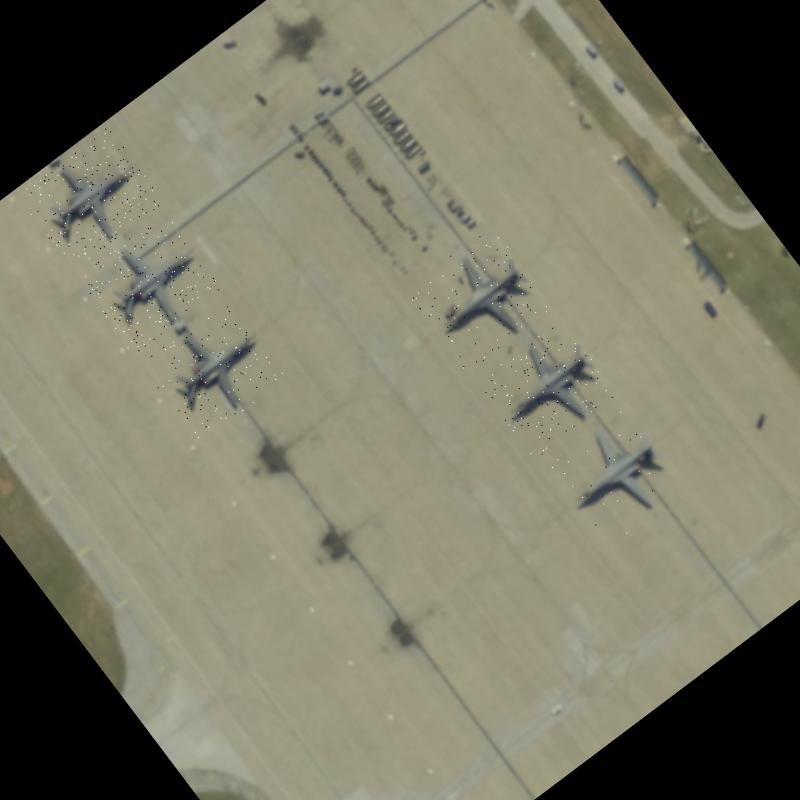A10: (405, 224, 556, 374), (138, 298, 286, 444), (76, 211, 224, 356), (17, 127, 165, 270), (543, 406, 687, 552), (477, 316, 622, 460)
